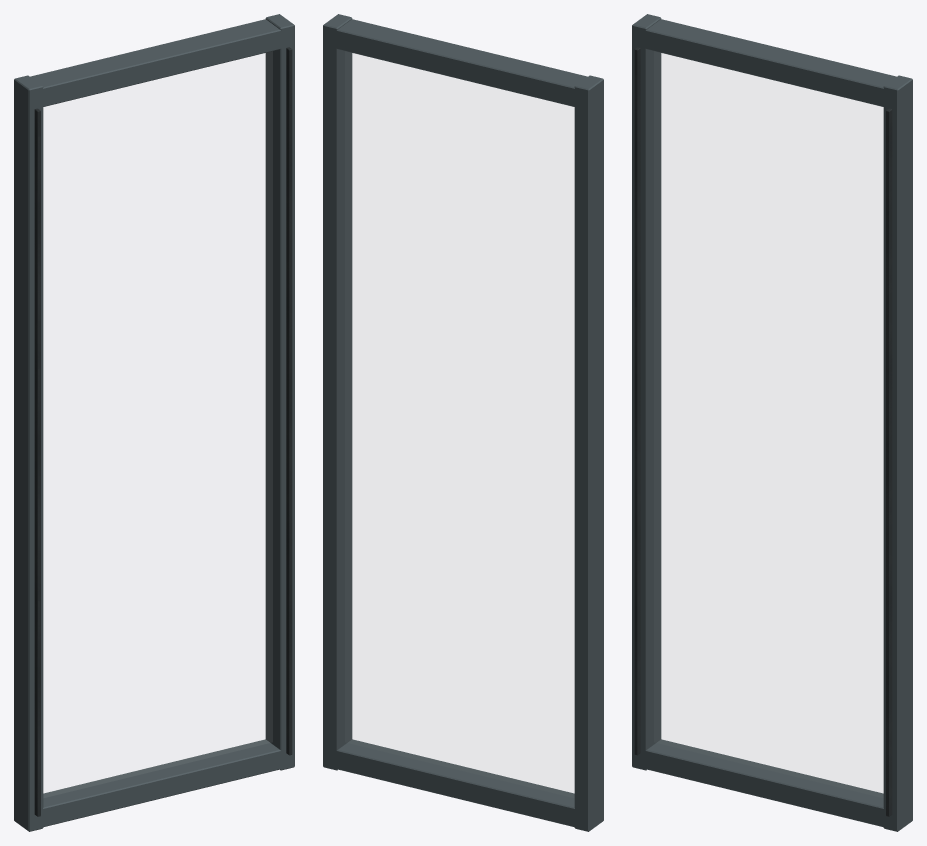
File: GlassBay.glb
The picture shows the model from 3 angles, left to right: view 1: azimuth 30°, elevation 25°; view 2: azimuth 150°, elevation 25°; view 3: azimuth 330°, elevation 25°; orthographic projection.
Visible parts, largest first — view 1: GlassBay__BlackenedSteel__mesh, GlassBay__Powdercoat__mesh; view 2: GlassBay__BlackenedSteel__mesh; view 3: GlassBay__BlackenedSteel__mesh, GlassBay__Powdercoat__mesh.
Boxes of the visible parts, bbox=[...] form: GlassBay__BlackenedSteel__mesh: bbox=[14, 14, 294, 831]; GlassBay__Powdercoat__mesh: bbox=[34, 47, 292, 816]; GlassBay__BlackenedSteel__mesh: bbox=[323, 14, 603, 831]; GlassBay__BlackenedSteel__mesh: bbox=[632, 14, 912, 831]; GlassBay__Powdercoat__mesh: bbox=[634, 47, 892, 816].
Bounding box in the file's own units: 1.2 × 3.2 × 0.1435.
3 materials, 1 textured.
